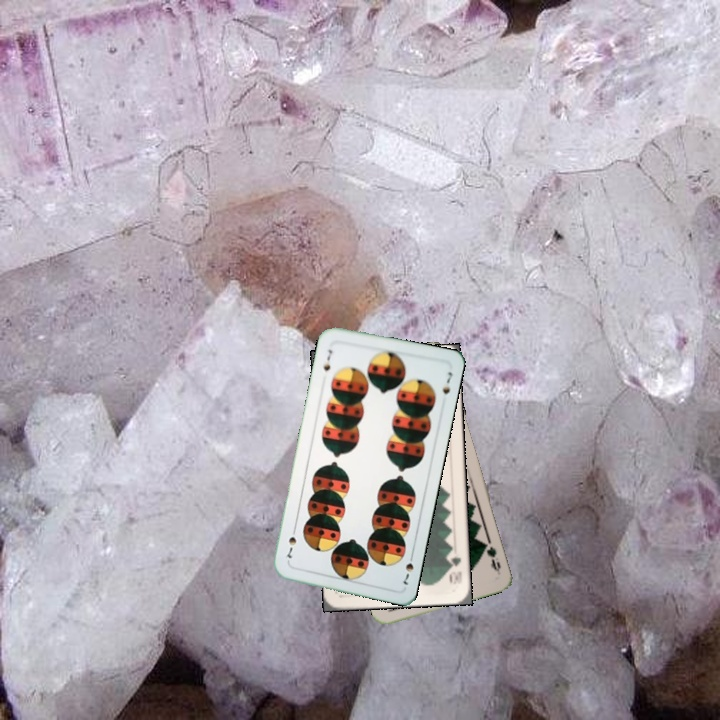G10: (445, 552, 465, 586)
G9: (480, 536, 503, 576)
S7: (399, 549, 416, 588), (319, 345, 335, 373)
